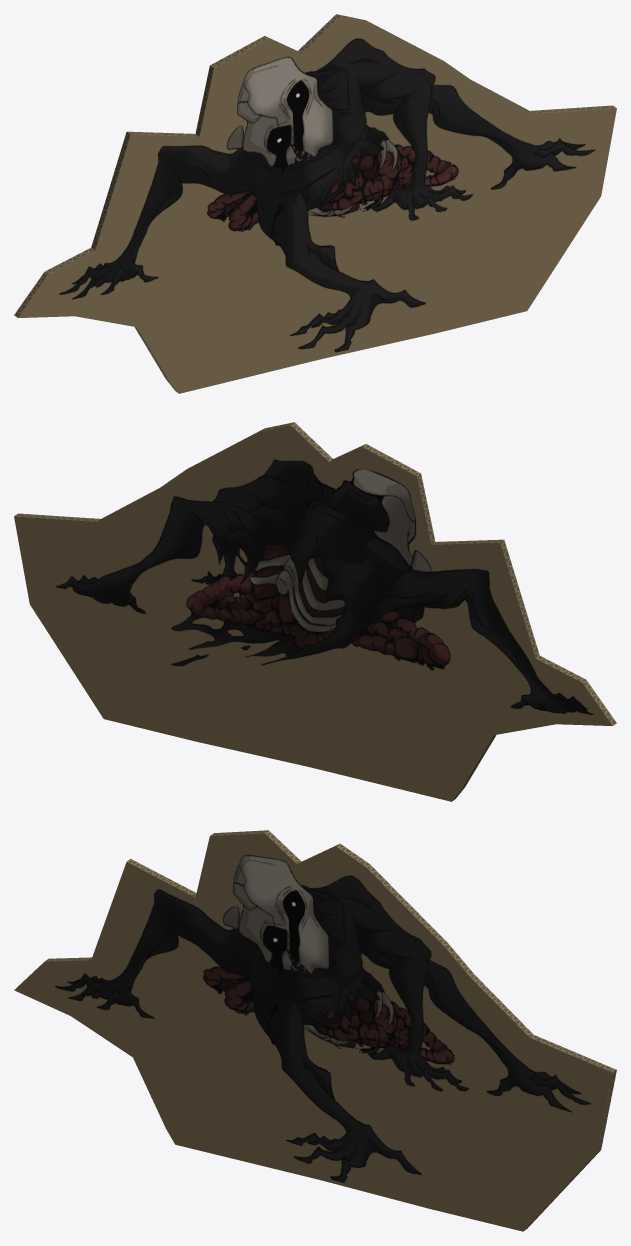
Rendered from FGJ25_Monster2.fbx.
3 views of the same model, one above another, from view 1: azimuth 30°, elevation 25°; view 2: azimuth 150°, elevation 25°; view 3: azimuth 330°, elevation 25° (orthographic).
Visible parts, largest first — view 1: Vert; view 2: Vert; view 3: Vert.
Boxes of the visible parts, x1,y1,x2,y2 form: Vert: (14, 14, 616, 393); Vert: (14, 422, 616, 801); Vert: (14, 830, 616, 1231).
Size of the model in its own units: 323 by 175 by 3.8.
Materials: 1 (1 with a texture image).
